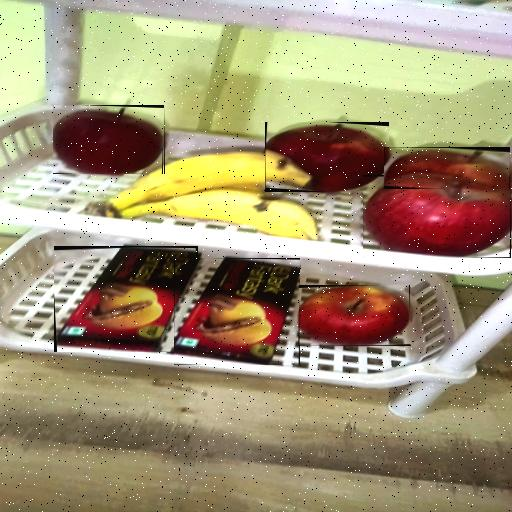Apple: (363, 175, 511, 258), (265, 122, 389, 192), (54, 105, 166, 174), (300, 285, 412, 346), (384, 147, 510, 189)
Choco Fills: (54, 246, 198, 352), (174, 258, 300, 365)
